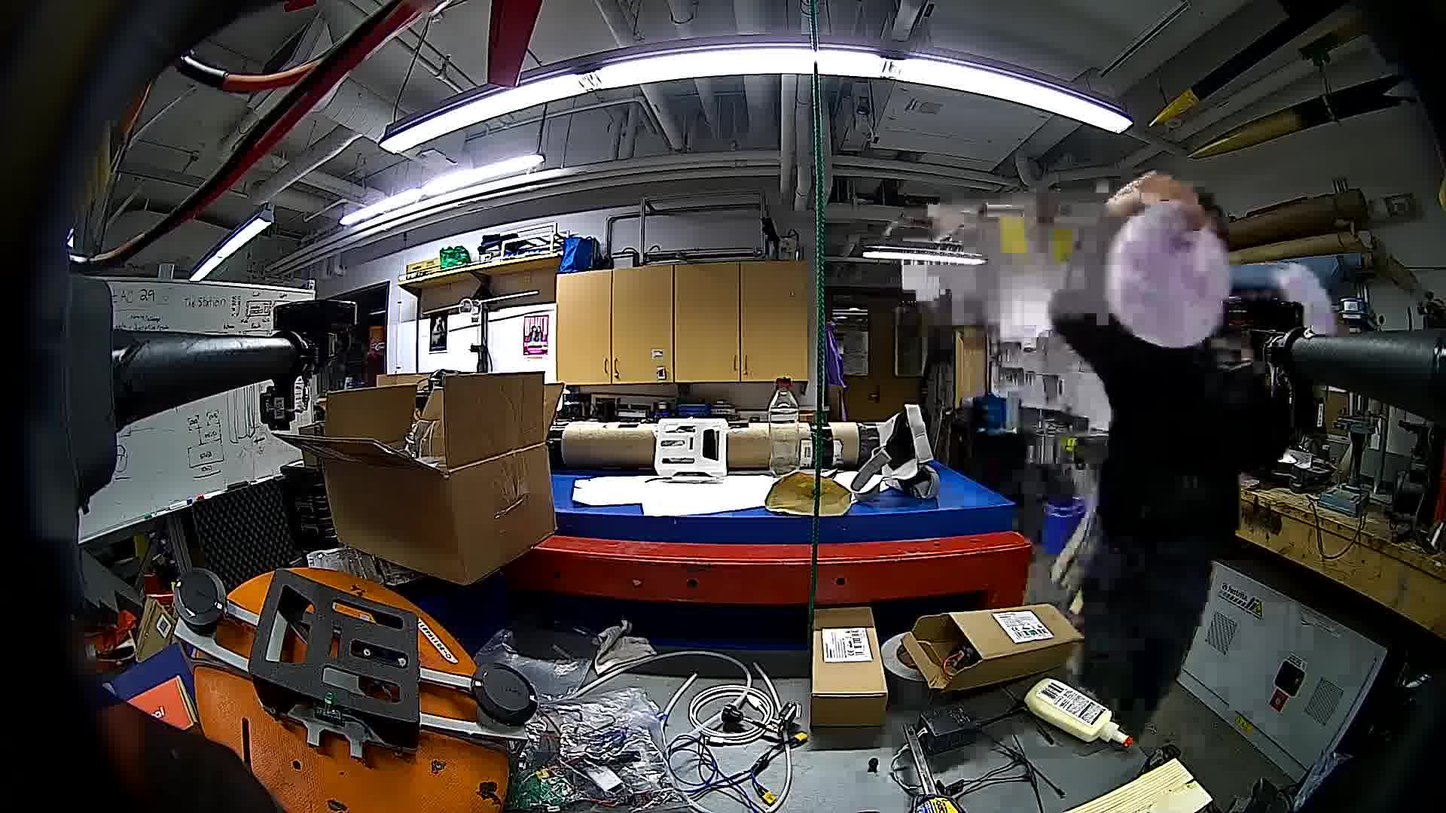Target: (1106, 200, 1238, 350)
